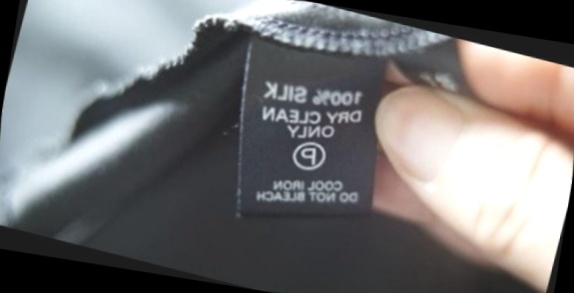dry_clean_any_solvent_except_trichloroethylene: (285, 133, 332, 177)
